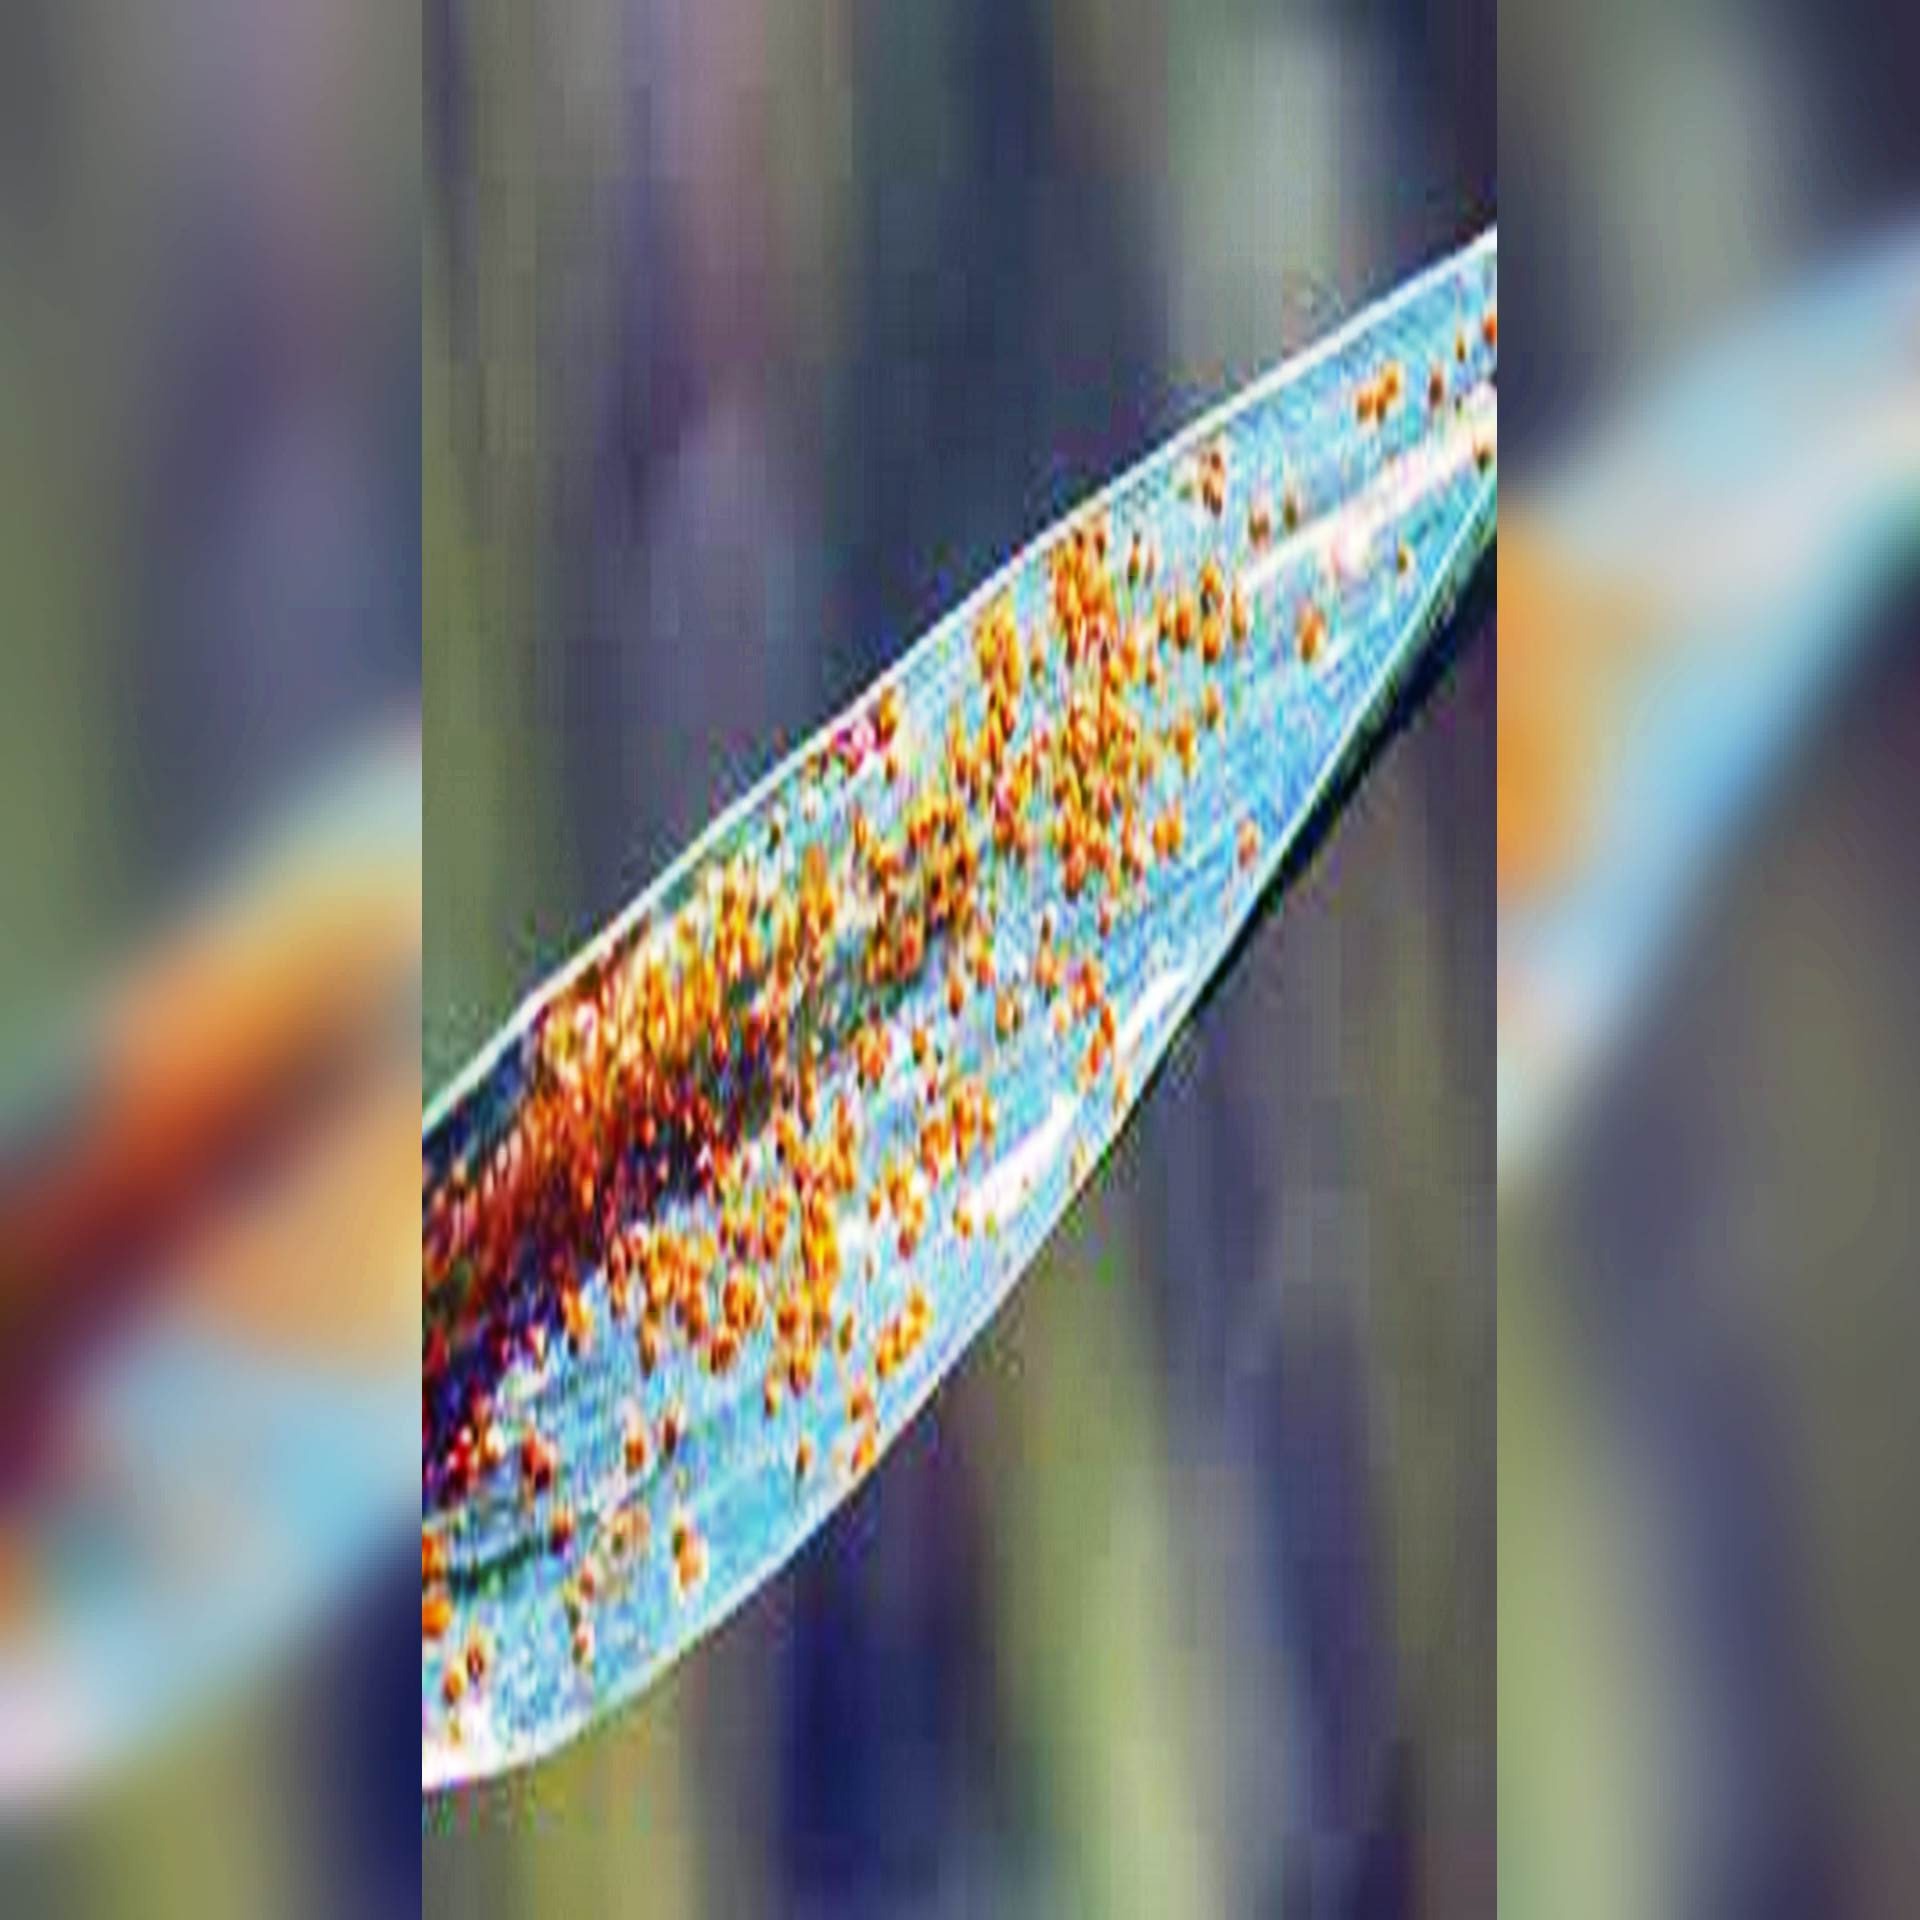Leaf Rust: (420, 380, 1342, 1547)
